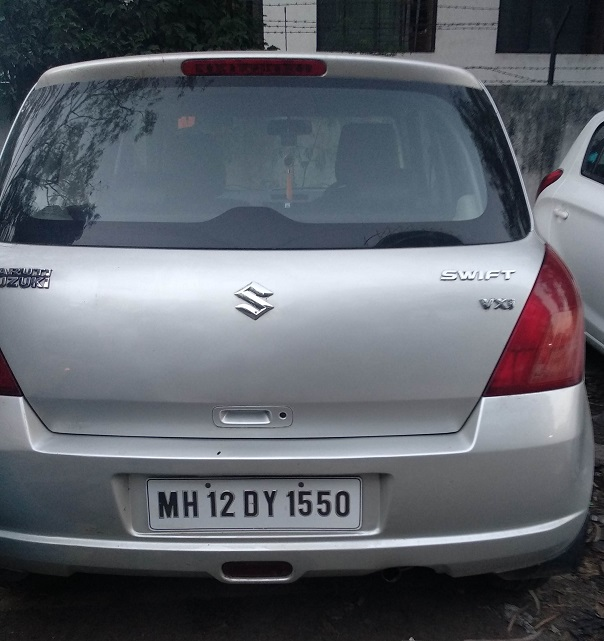licenseplate: (144, 474, 370, 540)
